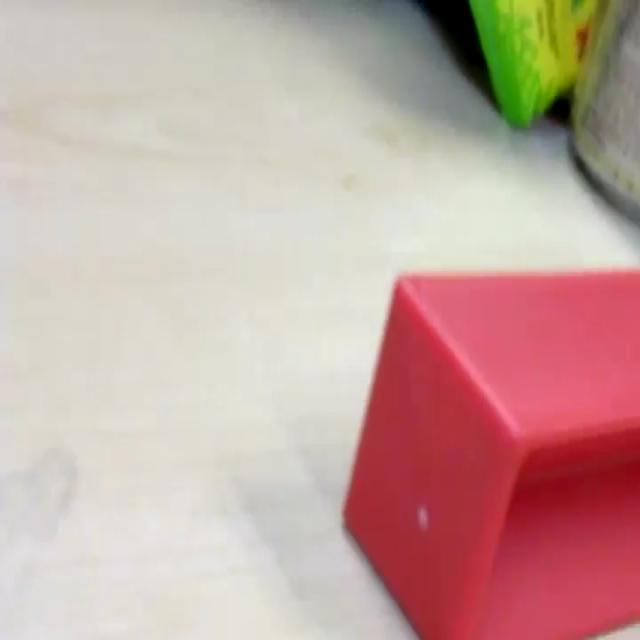red_block: (342, 266, 638, 638)
